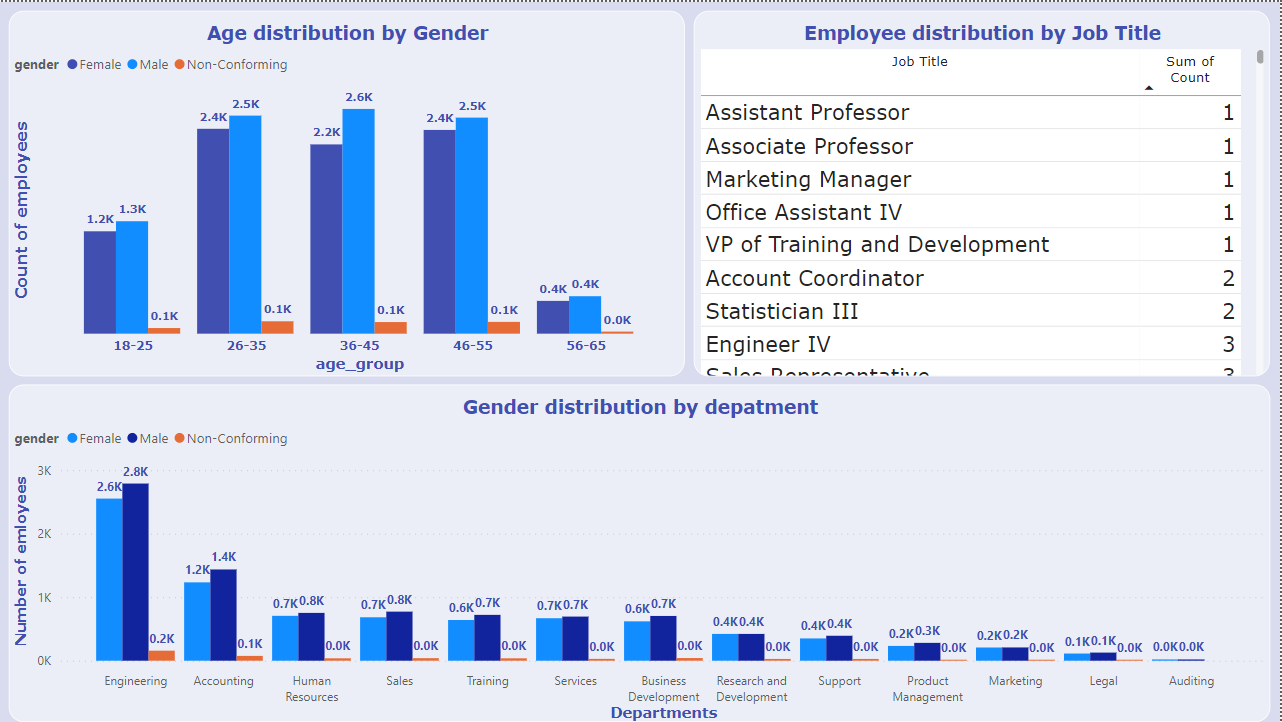

The page's visual inventory and layout, read from the dashboard file:
{"tool":"powerbi","page":{"name":"Page 2","canvas":[1280,720],"ordinal":1},"visuals":[{"type":"clusteredColumnChart","title":"Age distribution by Gender","fields":{"Category":["age_group_gender.age_group"],"Y":["Sum(age_group_gender.count)"],"Series":["age_group_gender.gender"]},"box":[8.6,8.6,676,365.5],"z":0},{"type":"clusteredColumnChart","title":"Gender distribution by depatment","fields":{"Category":["department_gender_distribution.department"],"Y":["Sum(department_gender_distribution.count)"],"Series":["department_gender_distribution.gender"]},"box":[8.6,382.6,1261.5,337.4],"z":1000},{"type":"tableEx","title":"Employee distribution by Job Title","fields":{"Values":["jobtitles.jobtitle","Sum(jobtitles.count)"]},"box":[694.3,8.6,575.8,365.5],"z":2000}]}

Visuals, with their boxes in screenshot pixels (x1, y1, x2, y2), scaled from the page's 1280x720 canvas onto the 1282x722 screenshot:
"Age distribution by Gender" clusteredColumnChart: {"x1": 9, "y1": 9, "x2": 686, "y2": 375}
"Gender distribution by depatment" clusteredColumnChart: {"x1": 9, "y1": 384, "x2": 1272, "y2": 721}
"Employee distribution by Job Title" tableEx: {"x1": 695, "y1": 9, "x2": 1272, "y2": 375}
